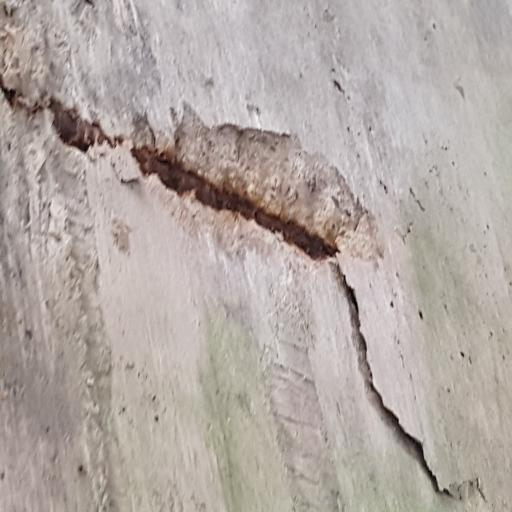exposed_rebar: (131, 148, 336, 258), (49, 100, 113, 151)
spalling: (47, 98, 380, 284)
